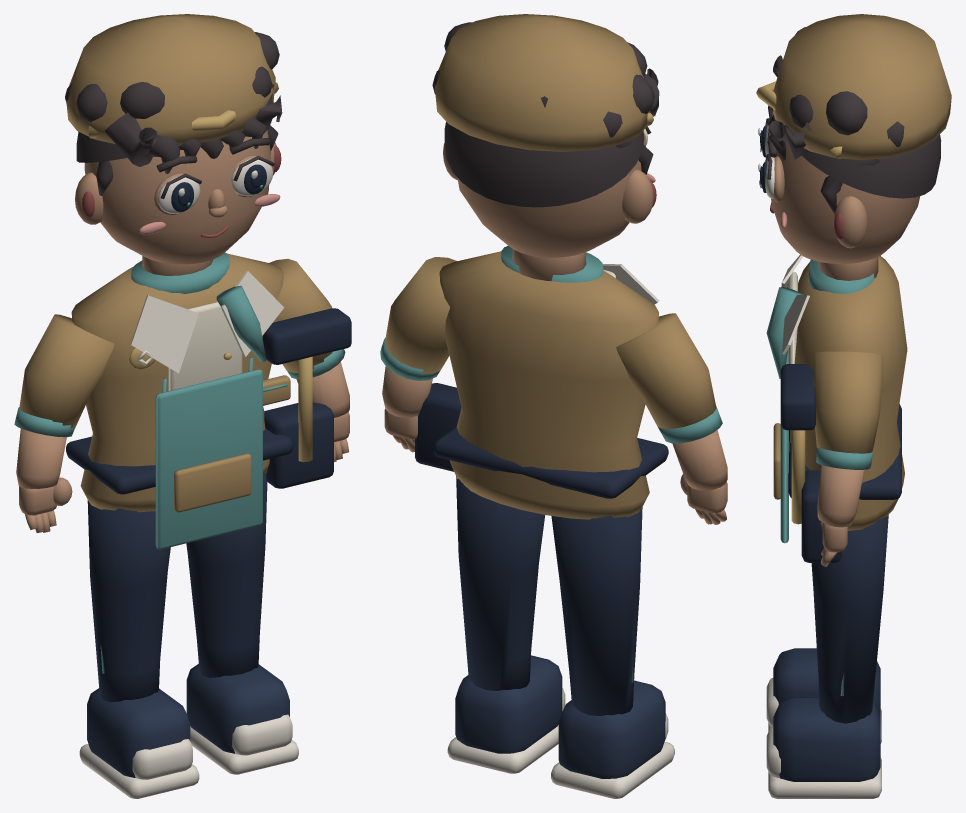
File: npc_hexruins_trainer_3.glb
3 renders of one model, left to right at view 1: azimuth 30°, elevation 25°; view 2: azimuth 150°, elevation 25°; view 3: azimuth 270°, elevation 25°, orthographic. The views are drawn at different scales.
Parts seen in each view (by area): view 1: figure.062; view 2: figure.062; view 3: figure.062.
Boxes of the visible parts, box(x1,y1,x2,y2) form: figure.062: box(14, 14, 351, 798); figure.062: box(380, 14, 727, 798); figure.062: box(756, 14, 951, 798).
Bounding box in the file's own units: 0.7511 × 1.58 × 0.3832.
